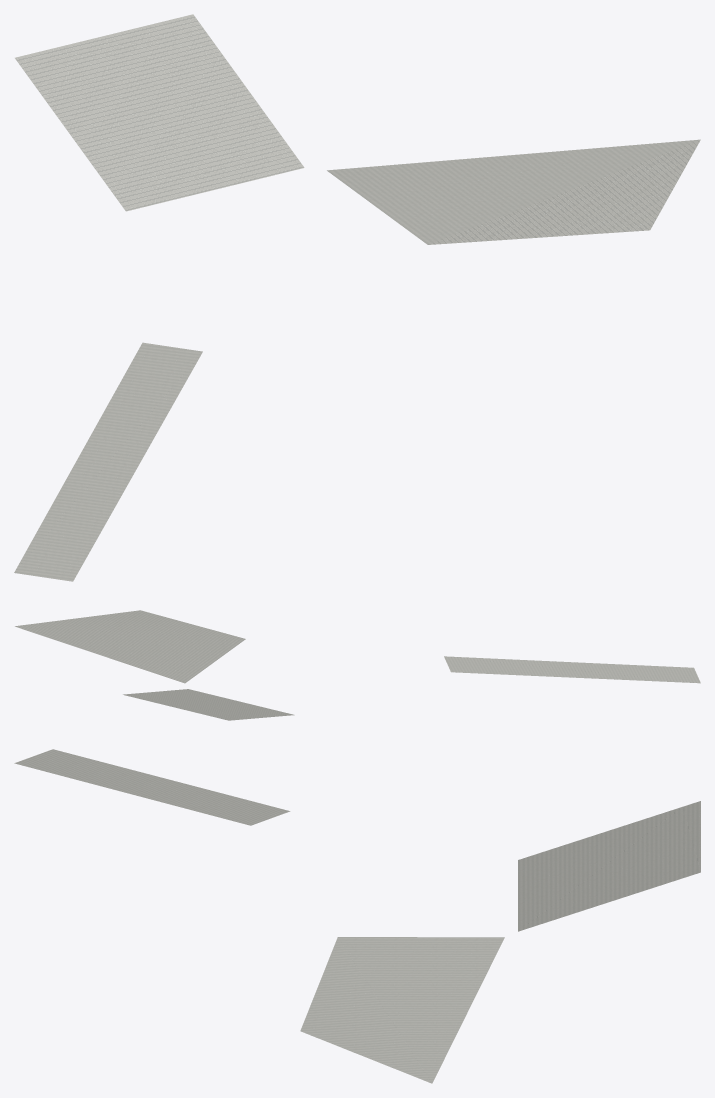
The model's file is kd_stage_13612f_5_36.glb.
3 views of the same model, one above another, from view 1: azimuth 30°, elevation 25°; view 2: azimuth 150°, elevation 25°; view 3: azimuth 270°, elevation 25° (orthographic). The views are drawn at different scales.
Visible parts, largest first — view 1: kd_stage_13612f_5_36; view 2: kd_stage_13612f_5_36; view 3: kd_stage_13612f_5_36.
Boxes of the visible parts, x1,y1,x2,y2 form: kd_stage_13612f_5_36: (14,14,700,581); kd_stage_13612f_5_36: (15,610,700,720); kd_stage_13612f_5_36: (14,749,700,1083).
Bounding box in the file's own units: 6.65 × 0.8999 × 5.25.
Materials: 1 (1 with a texture image).
